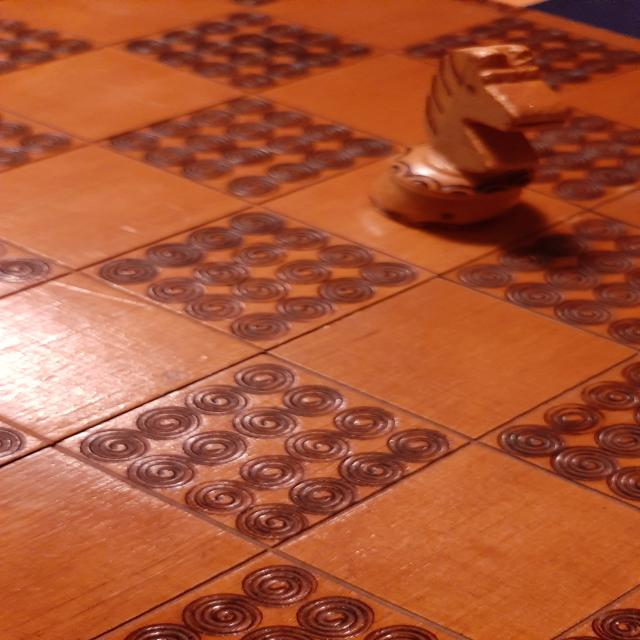white-knight: (366, 44, 570, 230)
